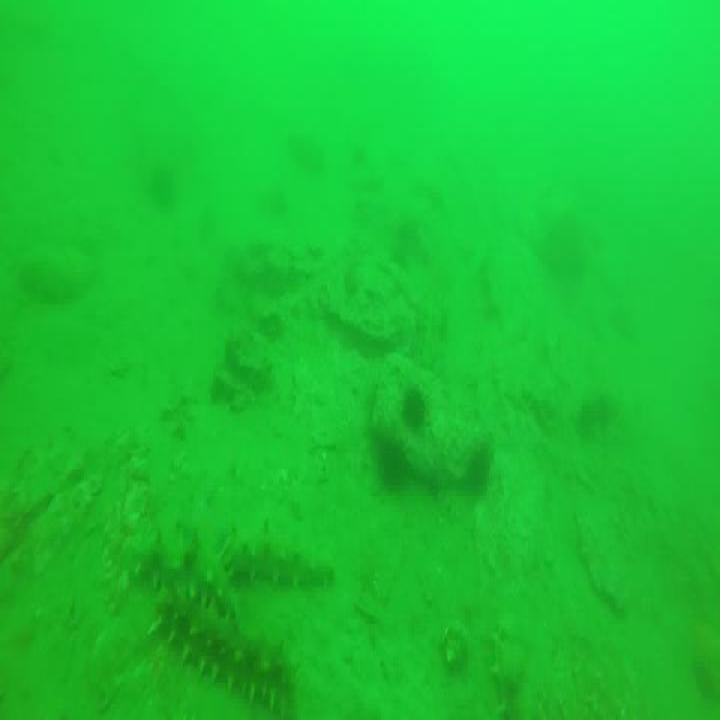echinus: (375, 441, 406, 494), (399, 388, 431, 432), (472, 458, 497, 498)
holothurian: (152, 583, 297, 720), (128, 524, 237, 636), (215, 526, 341, 583), (491, 611, 540, 720)
